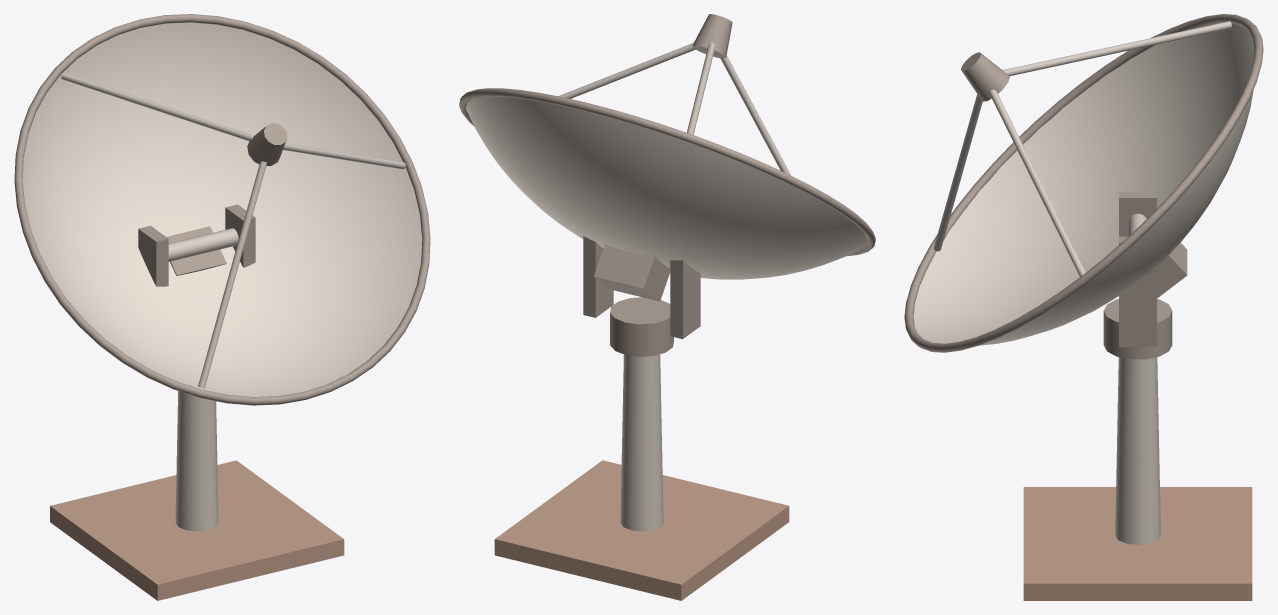
File: P02_satellite_dish_small.glb
3 renders of one model, left to right at view 1: azimuth 30°, elevation 25°; view 2: azimuth 150°, elevation 25°; view 3: azimuth 270°, elevation 25°, orthographic. The views are drawn at different scales.
Parts seen in each view (by area): view 1: dish, base_plate, dish_rim, post, feed_strut (×3), yoke (×2), pivot, feed_horn, actuator; view 2: dish, base_plate, post, dish_rim, yoke (×2), swivel, actuator, feed_strut (×3), feed_horn; view 3: dish, base_plate, dish_rim, post, feed_strut (×3), yoke (×2), swivel, feed_horn, actuator.
Part boxes in pixels (bbox=[...]): dish: bbox=[22, 22, 422, 396]; base_plate: bbox=[50, 460, 344, 600]; dish_rim: bbox=[14, 14, 430, 405]; post: bbox=[175, 391, 218, 531]; feed_strut (×3): bbox=[61, 72, 405, 388]; yoke (×2): bbox=[138, 204, 255, 286]; pivot: bbox=[143, 228, 238, 261]; feed_horn: bbox=[247, 123, 287, 166]; actuator: bbox=[166, 226, 226, 275]; dish: bbox=[465, 96, 867, 279]; base_plate: bbox=[494, 460, 789, 600]; post: bbox=[620, 354, 663, 531]; dish_rim: bbox=[459, 88, 875, 255]; yoke (×2): bbox=[583, 236, 700, 339]; swivel: bbox=[610, 297, 673, 356]; actuator: bbox=[594, 244, 670, 301]; feed_strut (×3): bbox=[558, 42, 790, 175]; feed_horn: bbox=[692, 14, 732, 58]; dish: bbox=[913, 23, 1254, 345]; base_plate: bbox=[1023, 487, 1252, 600]; dish_rim: bbox=[904, 14, 1263, 352]; post: bbox=[1115, 357, 1160, 544]; feed_strut (×3): bbox=[933, 21, 1231, 276]; yoke (×2): bbox=[1119, 191, 1156, 346]; swivel: bbox=[1103, 299, 1172, 359]; feed_horn: bbox=[961, 52, 1009, 101]; actuator: bbox=[1157, 242, 1187, 298].
Size of the model in its own units: 1.22 by 1.47 by 0.9417.
